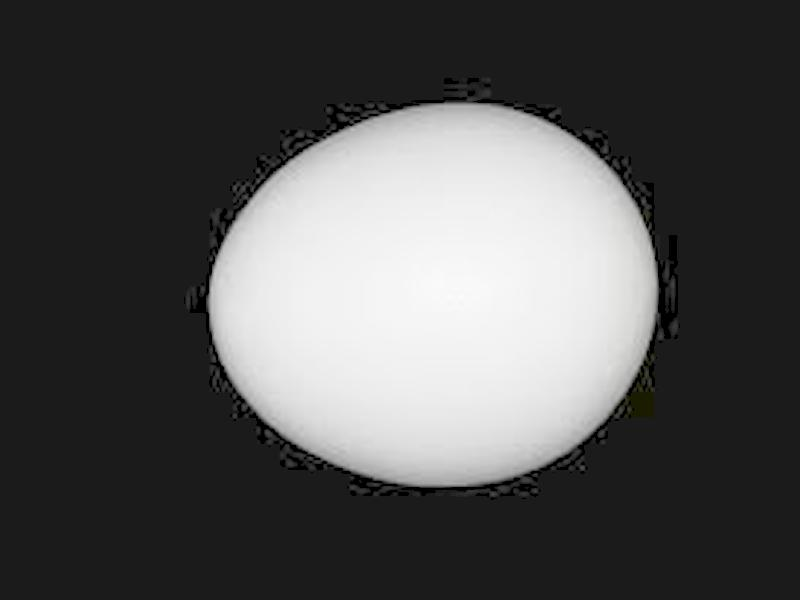Eggs: (213, 104, 654, 486)
